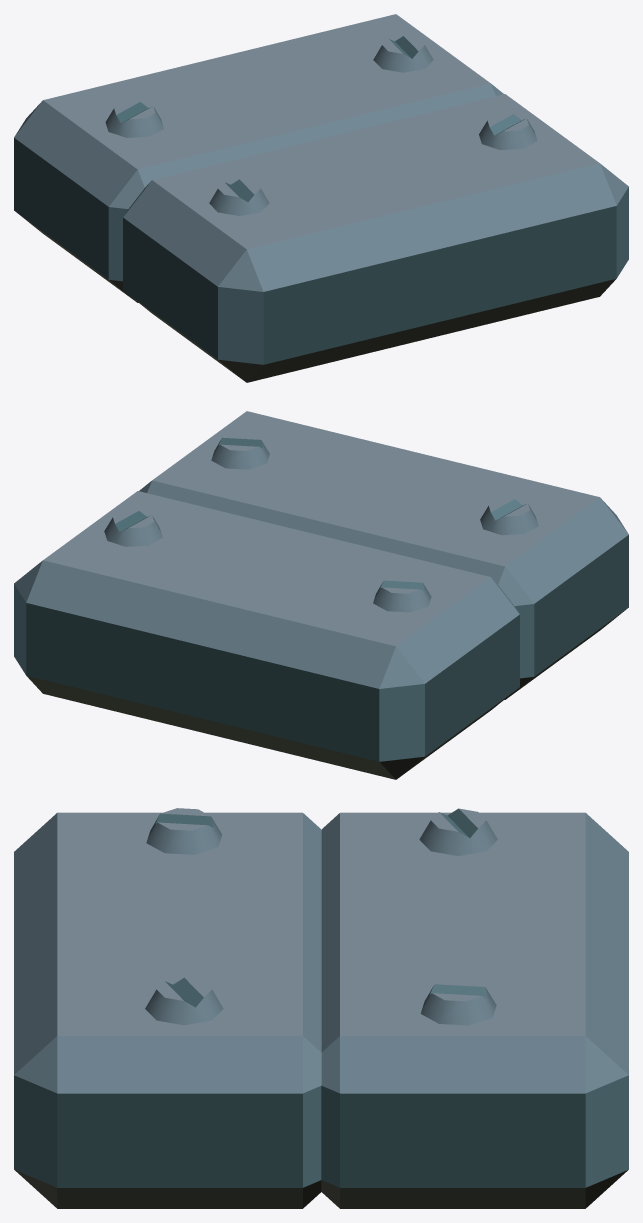
Rendered from m_kub_metal_floorTwoBrick.FBX.
The picture shows the model from 3 angles, top to bottom: view 1: azimuth 30°, elevation 25°; view 2: azimuth 150°, elevation 25°; view 3: azimuth 270°, elevation 25°; orthographic projection. The views are drawn at different scales.
Visible parts, largest first — view 1: m_kub_metal_floorTwoBrick; view 2: m_kub_metal_floorTwoBrick; view 3: m_kub_metal_floorTwoBrick.
Part boxes in pixels (x1,y1,x2,y2): m_kub_metal_floorTwoBrick: (14,14,628,382); m_kub_metal_floorTwoBrick: (14,411,628,779); m_kub_metal_floorTwoBrick: (14,808,628,1208).
Bounding box in the file's own units: 2.18 × 0.7512 × 2.18.
